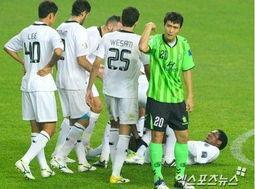Fall-Detected: (99, 119, 232, 172)
